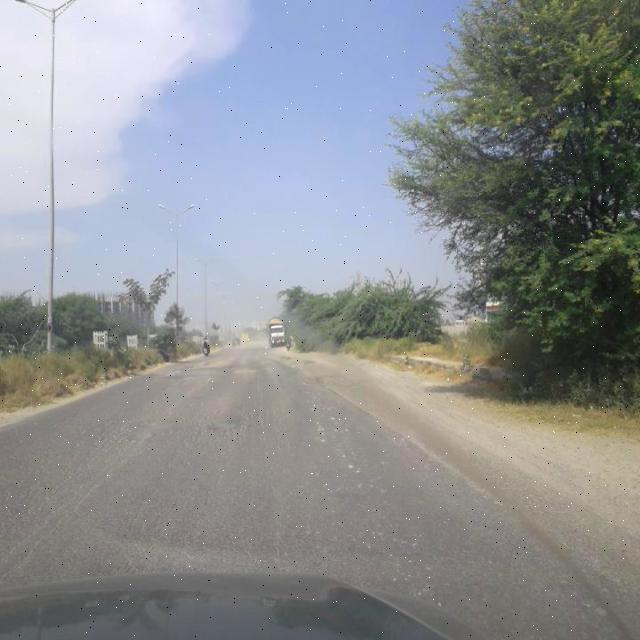D00: (315, 374, 504, 507), (6, 424, 150, 571)
D20: (122, 487, 384, 573), (1, 394, 146, 548), (183, 398, 281, 462)
